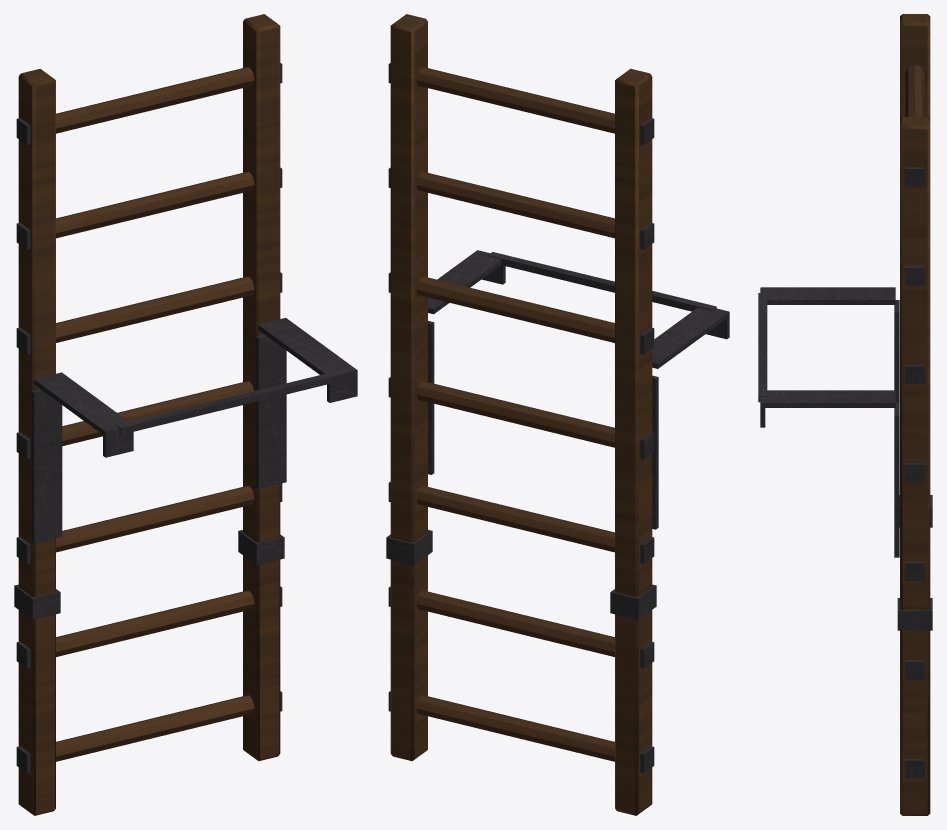
The model's file is ladder_top.glb.
3 renders of one model, left to right at view 1: azimuth 30°, elevation 25°; view 2: azimuth 150°, elevation 25°; view 3: azimuth 270°, elevation 25°, orthographic. The views are drawn at different scales.
Parts seen in each view (by area): view 1: ladder_top_mesh; view 2: ladder_top_mesh; view 3: ladder_top_mesh.
Part boxes in pixels (x1=…): ladder_top_mesh: x1=14, y1=14, x2=357, y2=815; ladder_top_mesh: x1=386, y1=14, x2=729, y2=815; ladder_top_mesh: x1=758, y1=14, x2=932, y2=815.
Size of the model in its own units: 0.638 by 1.75 by 0.4.
2 materials, 2 textured.
